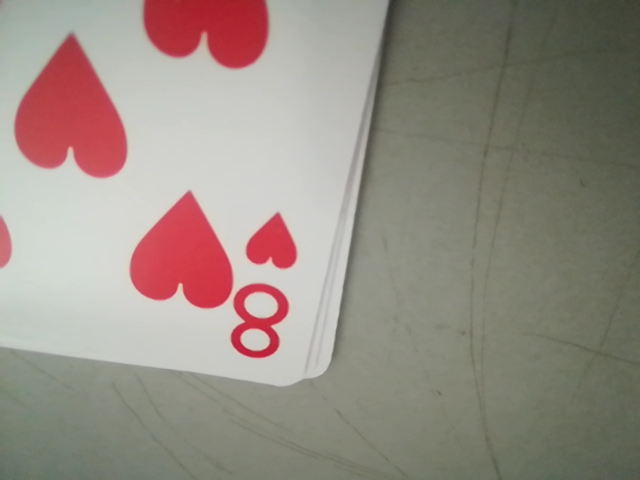hx 8: (231, 203, 298, 363)
